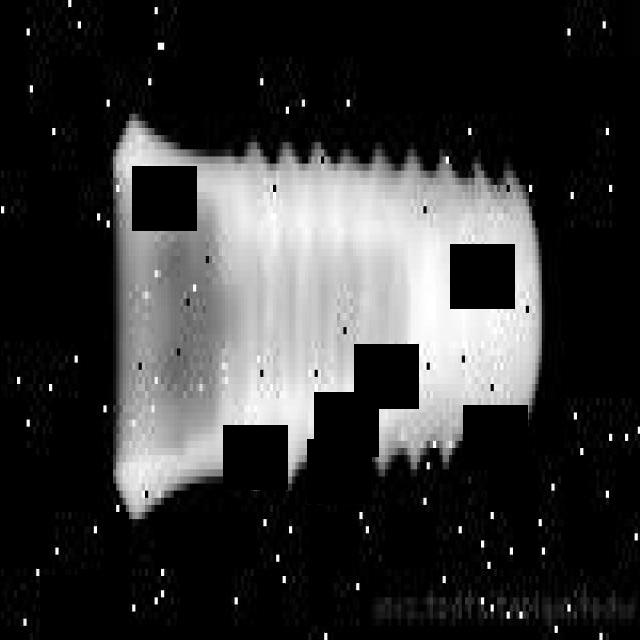Titan Implant Implant: (112, 114, 544, 519)
